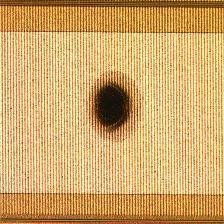PARTICLE: (78, 71, 154, 147)
